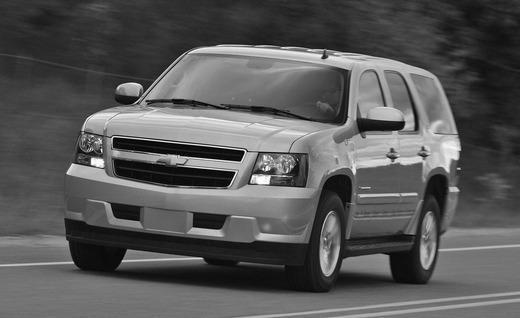car: (62, 43, 465, 296)
